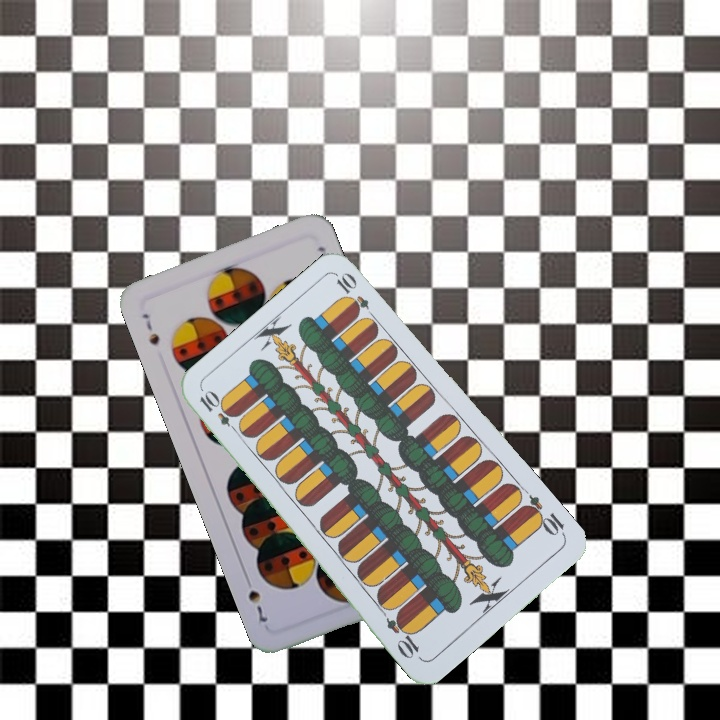E10: (518, 491, 568, 540), (195, 387, 243, 437)
S7: (137, 309, 162, 348)
